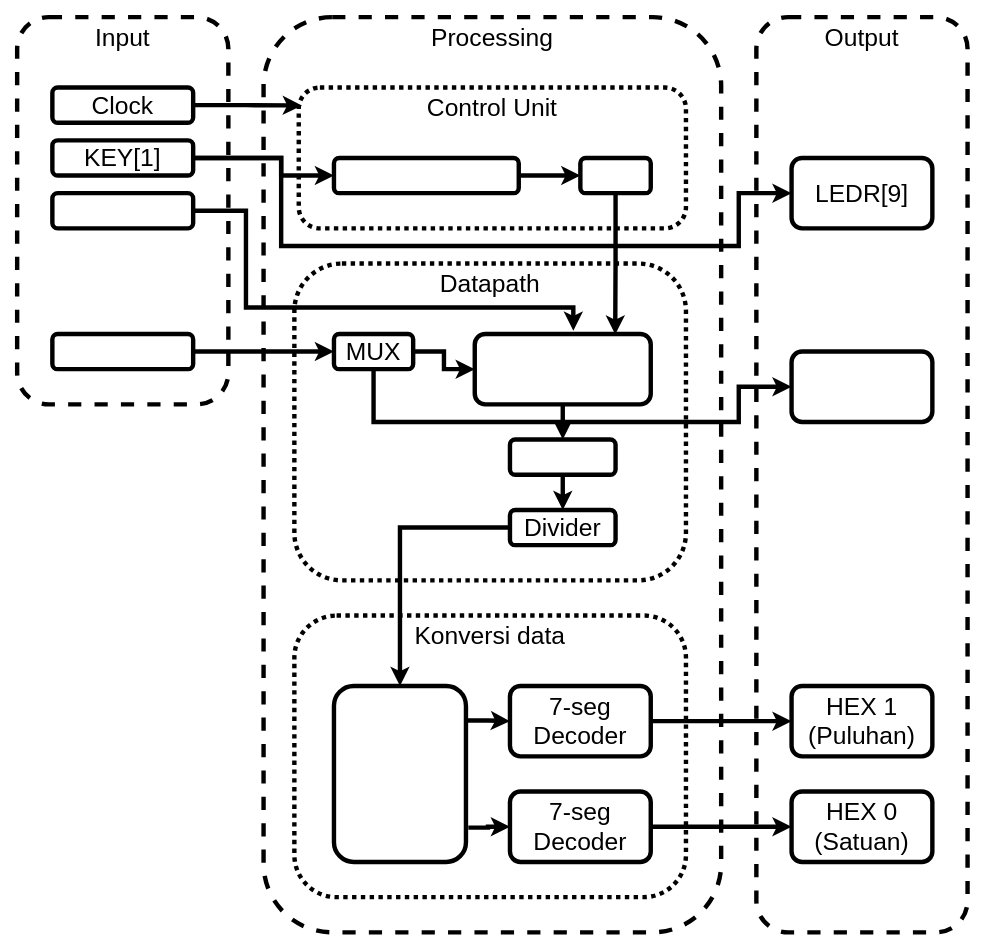
This 985x950 diagram has some shape labels left out. Here are the shapes that lost their labels. From the top down, the centre of each, then its label:
At point (426, 175): "Edge Detection".
At point (615, 175): "FSM".
At point (122, 210): "KEY[0]".
At point (122, 351): "SW[0]".
At point (562, 368): "Shift Register (x 0 x 1 x 2 x 3 )".
At point (861, 386): "LEDR[0...7]".
At point (562, 457): "Adder".
At point (399, 773): "Binary to BCD Converter".
